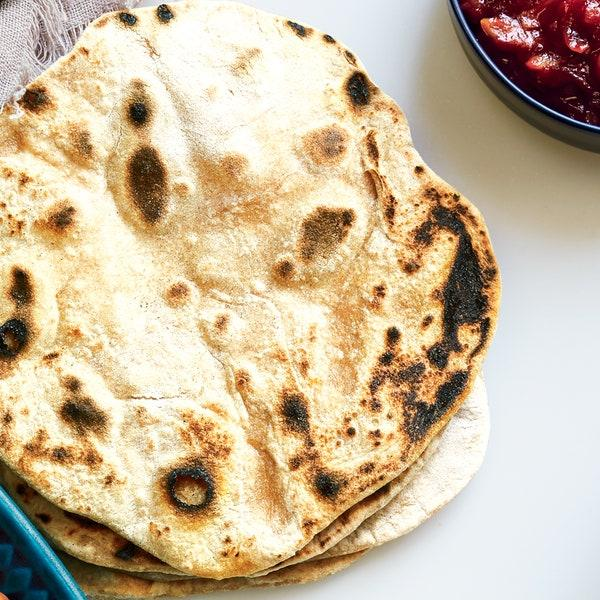chapati: (0, 2, 499, 578)
